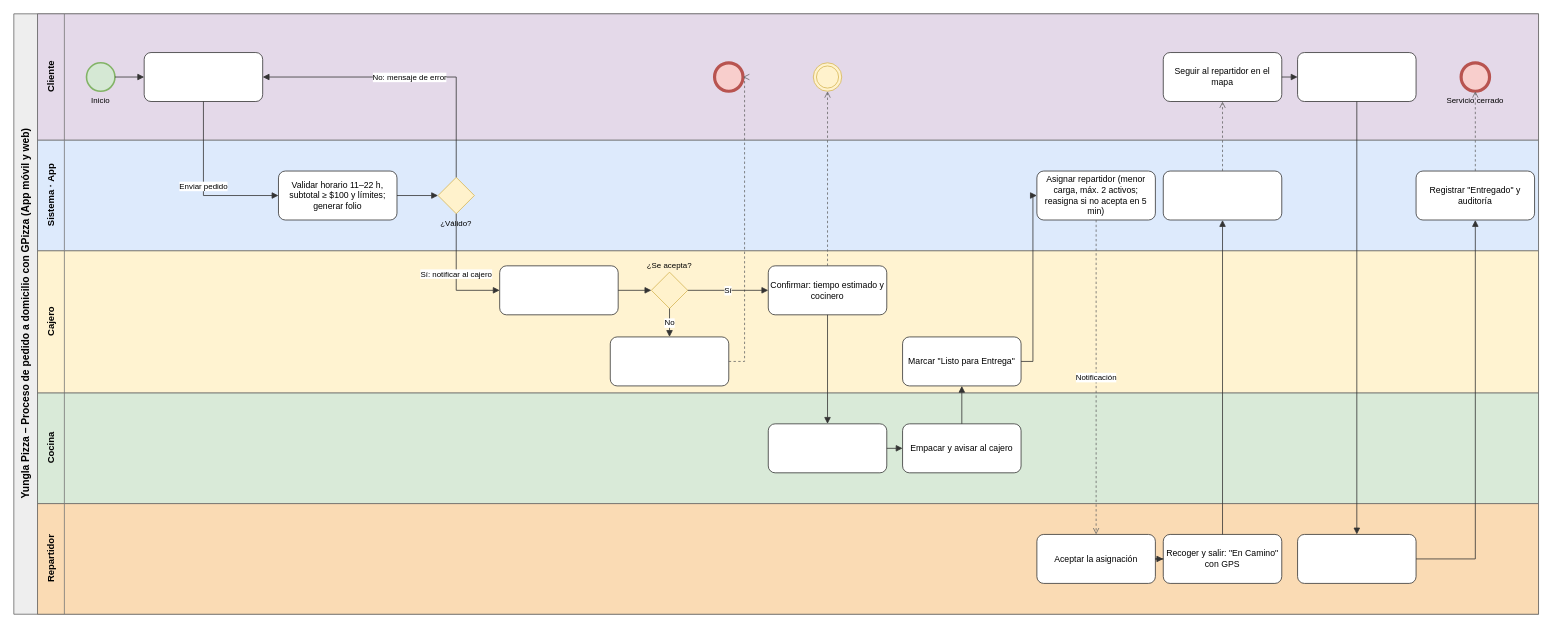
This 1552x628 diagram has some shape labels left out. The centre of each missing label's shape, as x and y in pixels:
Armar pedido en la App: menú, código de descuento y forma de pago: (203,77)
Notificar "En camino" e iniciar contador de 90 min: (1222,195)
Paso 1: firmar o dar el código de entrega: (1356,77)
Paso 2: confirmar la entrega con su sesión: (1356,558)
Pedido confirmado: barra de progreso: (827,76)
Preparar pedido (alerta a los 45 min): (827,448)
Rechazar indicando el motivo: (669,361)
Revisar pedido "Por confirmar": (558,290)
Ve el motivo del rechazo: (728,76)
